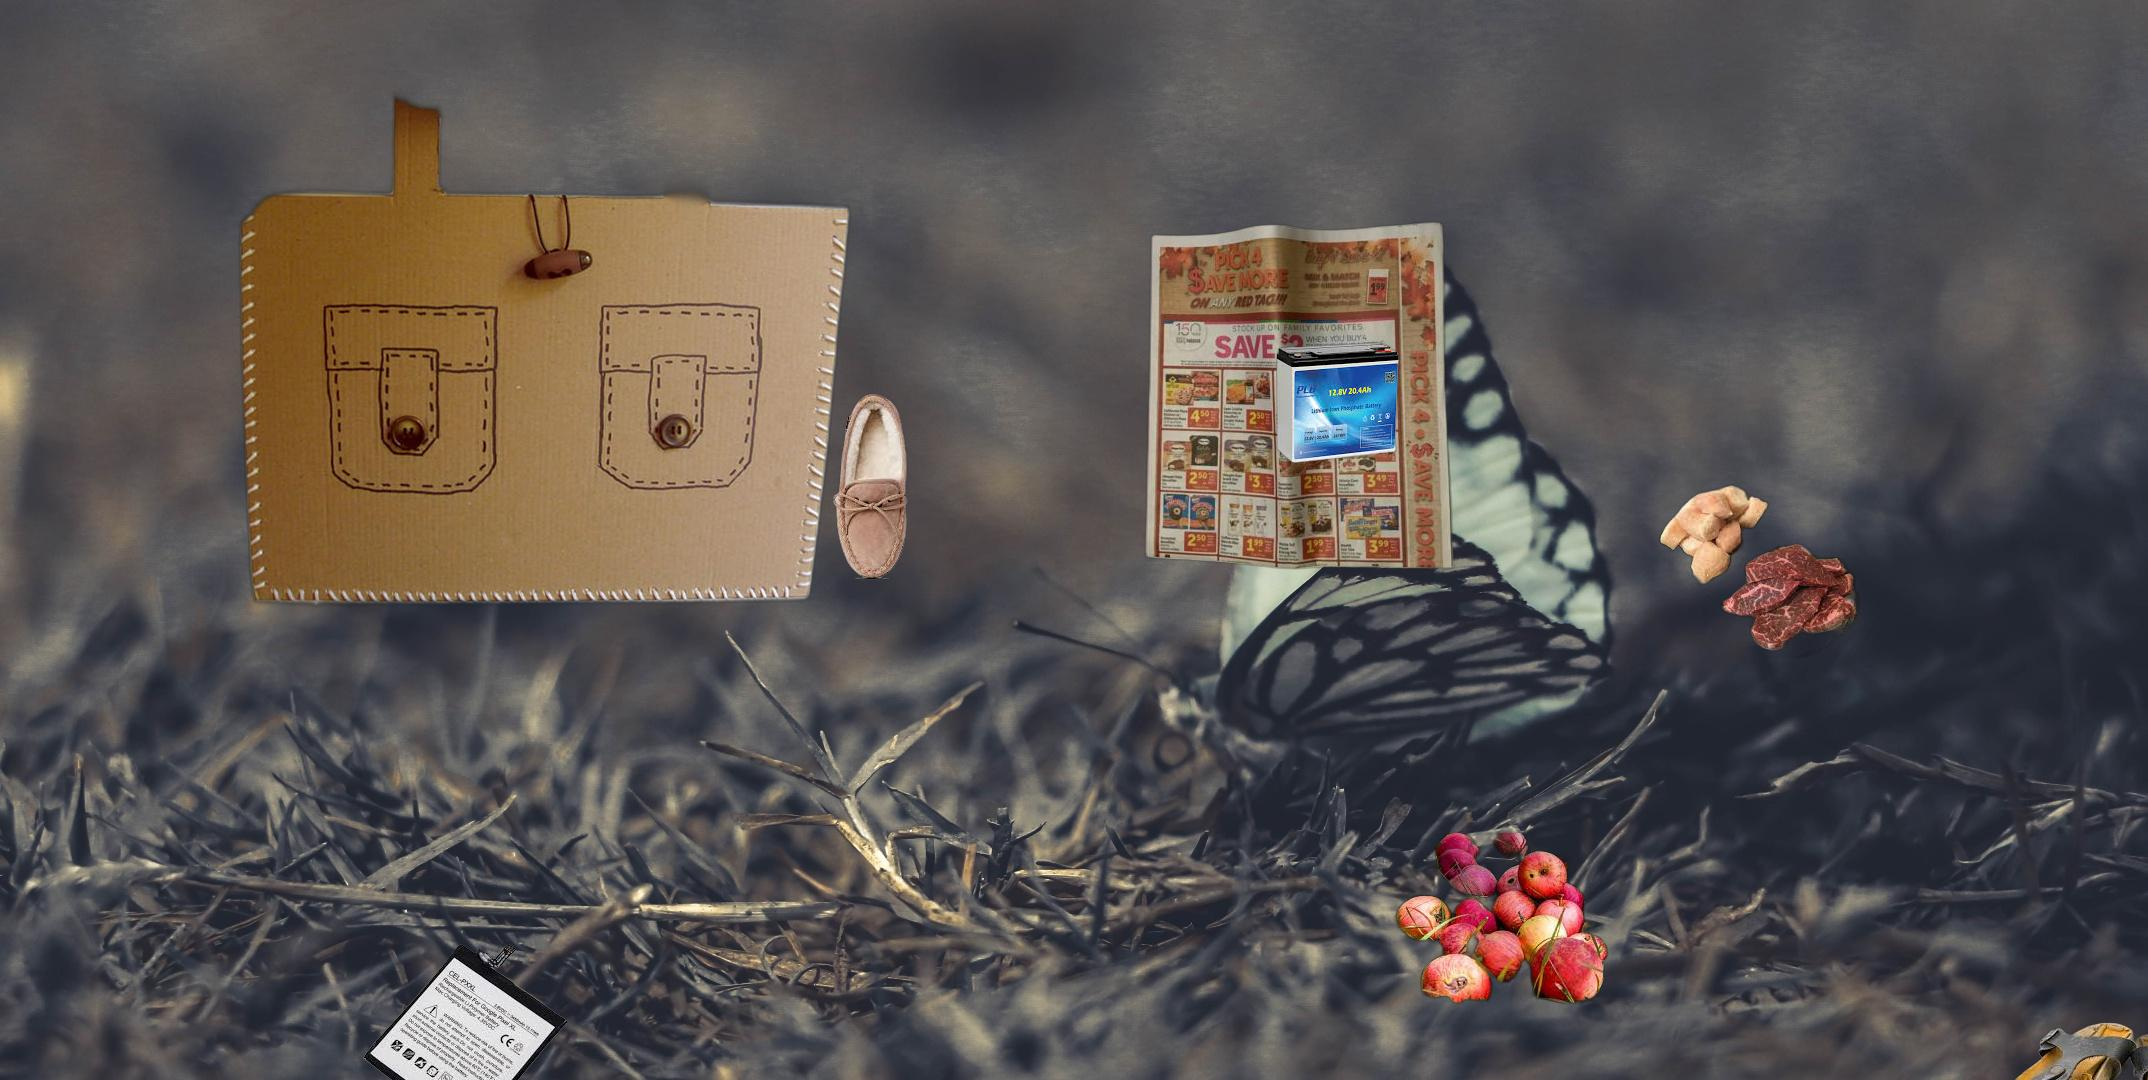battery: (359, 941, 570, 1080), (1274, 340, 1402, 466)
biological: (1393, 833, 1658, 1014), (1656, 482, 1877, 658)
paper: (1140, 218, 1460, 573)
shoes: (830, 391, 910, 583), (2001, 1018, 2148, 1080)
trashbox-cardboard: (191, 73, 856, 1046)
